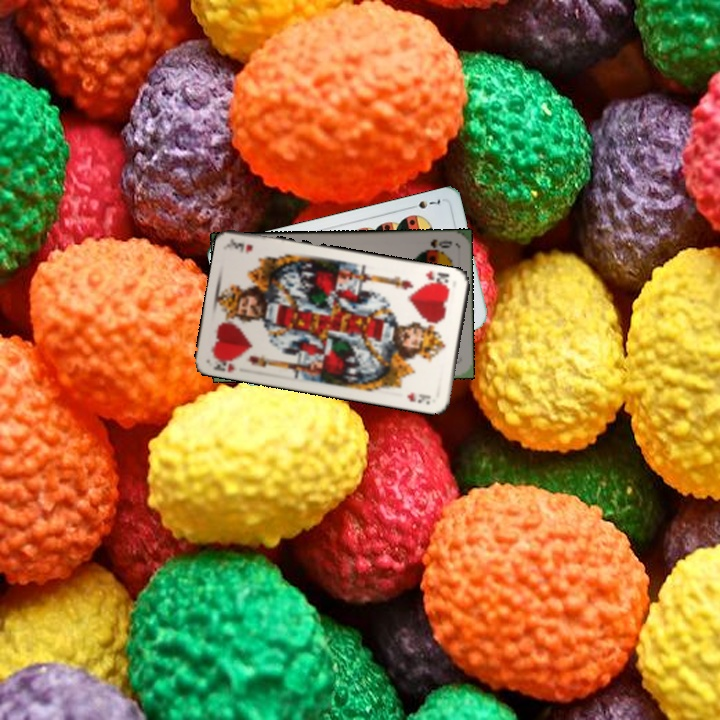HK: (419, 267, 453, 290), (209, 351, 241, 374)
S7: (405, 194, 443, 212)
SO: (421, 235, 455, 253)
